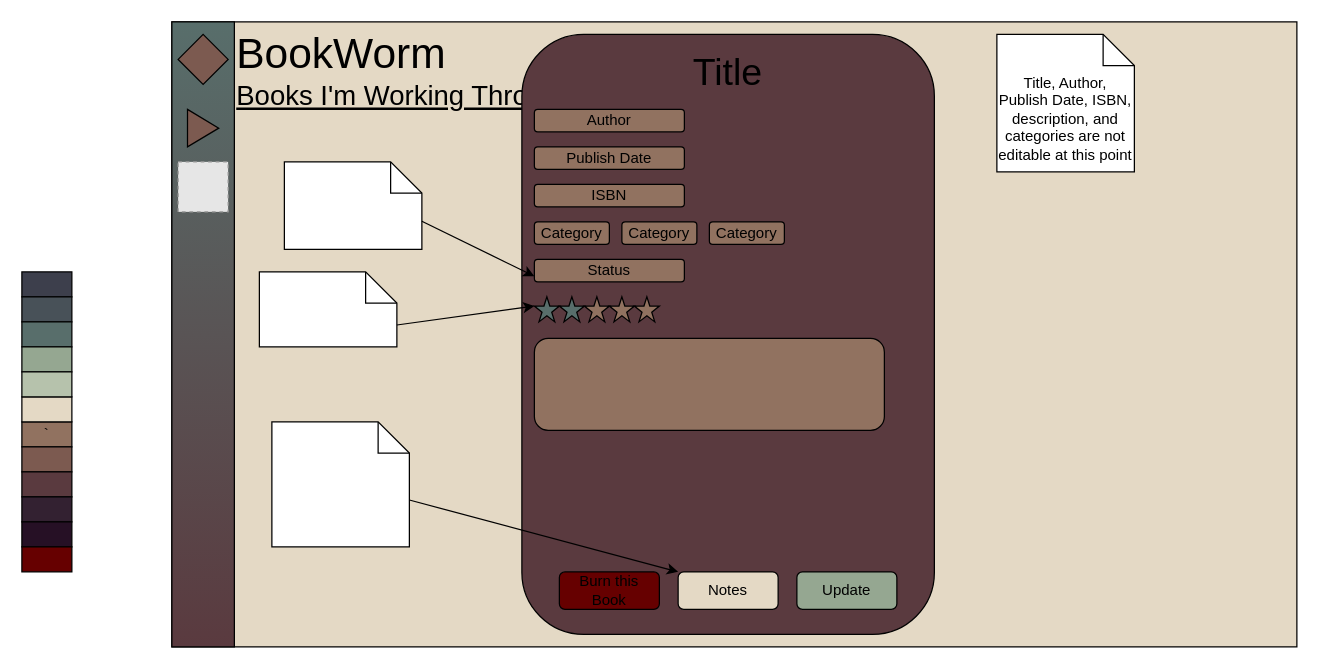
This 1319x669 diagram has some shape labels left out. Grey dashed boxes stand in for pictures. Here are the shapes that lost their labels. From the top down, the centre of each, then its label:
(x=352, y=205): Bought, In progress, Finished
(x=327, y=309): Ratings Change while Hovering
(x=708, y=383): Description
(x=340, y=484): Click notes to launch a notes text editor of sorts. Your personal book blog
